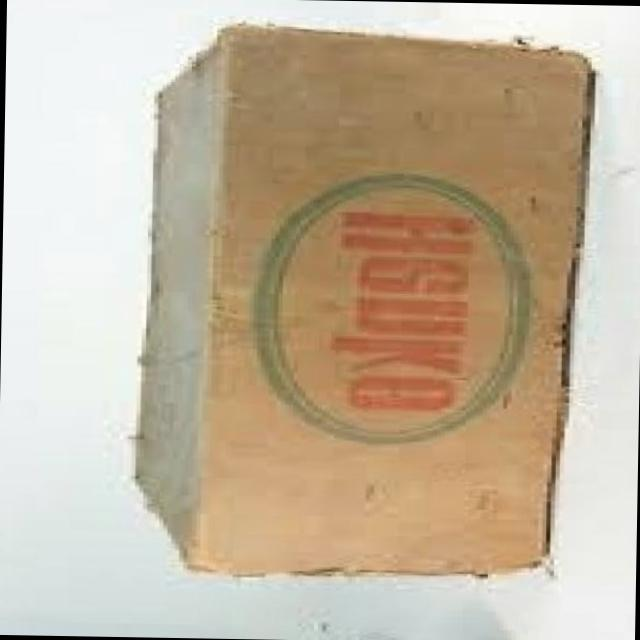cardboard paper: (132, 24, 587, 572)
